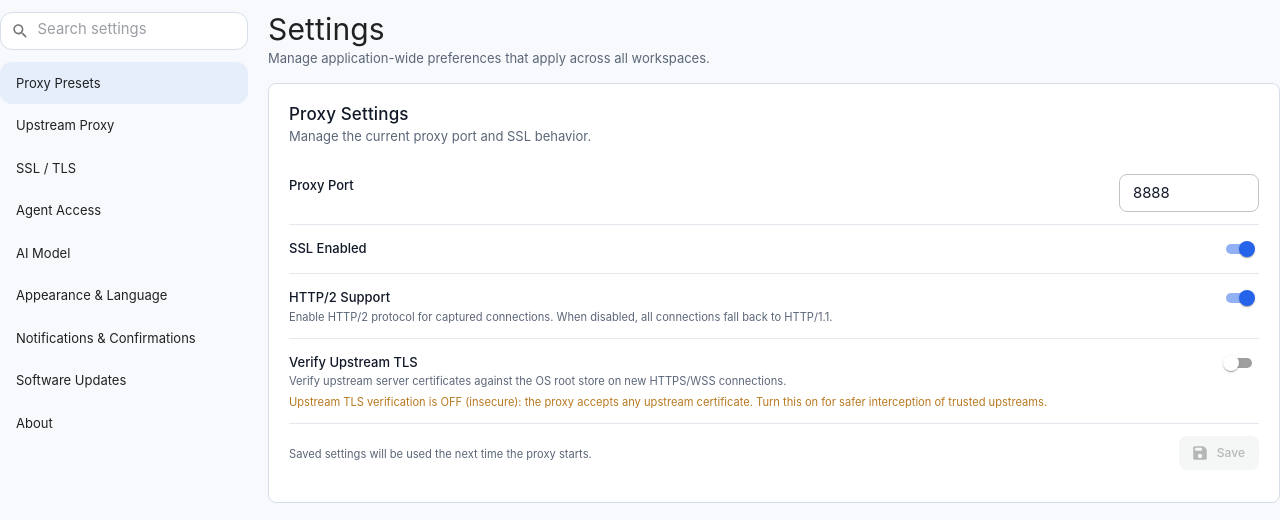
Test: SettingsPage navigation › opens a section from the directory
Click the button "Appearance & Language".
click(92, 295)  # box [16, 287, 167, 303]
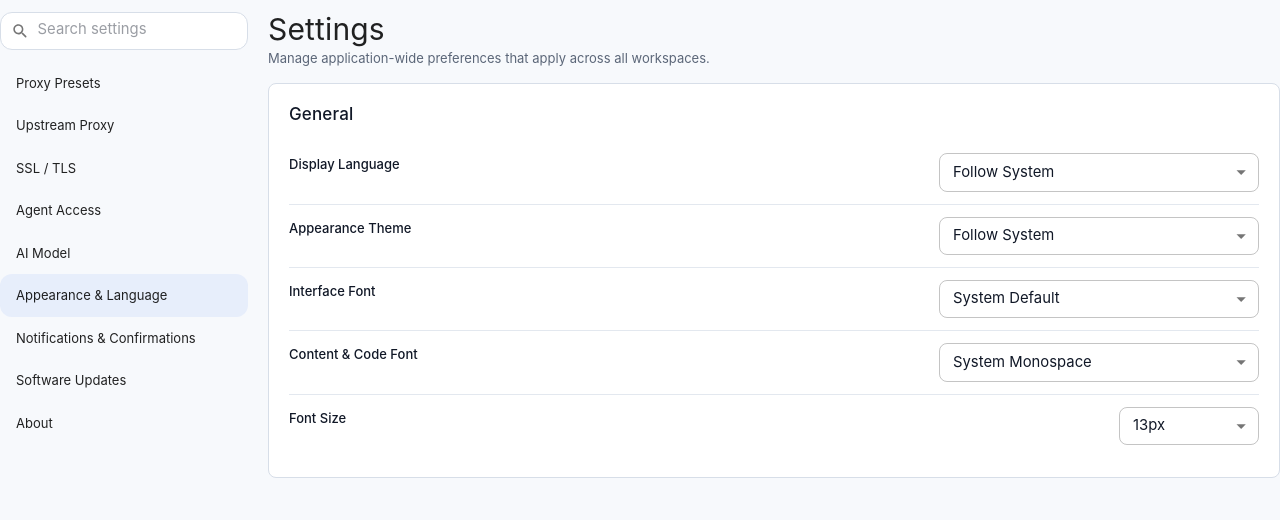
expect the dropdown named "Display Language" is shown: met, box [953, 163, 1054, 181]
